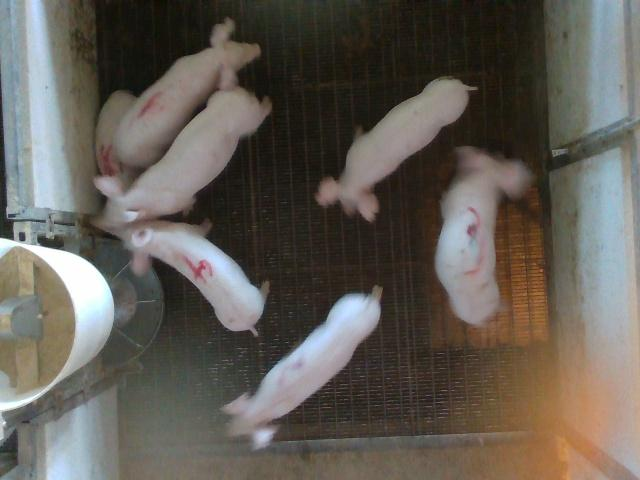pig-1: (114, 19, 260, 167)
pig-2: (222, 286, 381, 449)
pig-3: (435, 146, 534, 324)
pig-4: (116, 220, 269, 336)
pig-5: (95, 90, 140, 189)
